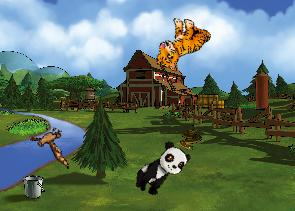eagle: (24, 120, 80, 169)
panda: (129, 137, 193, 202)
tiger: (152, 12, 213, 78)
